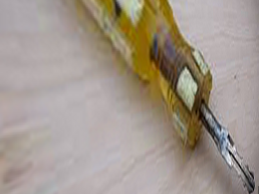screwdriver: (76, 1, 259, 194)
